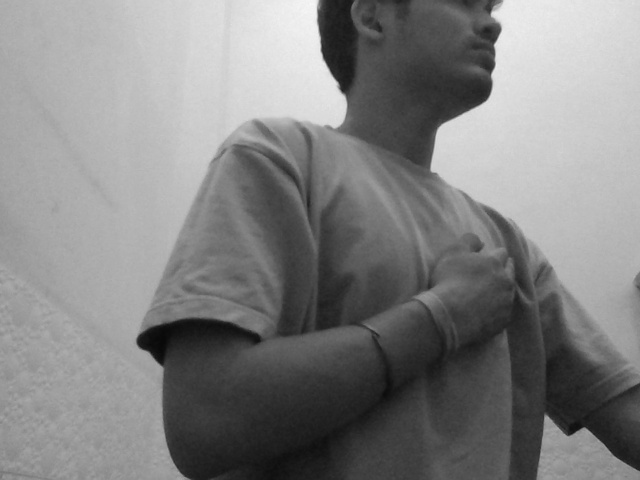Sorry: (405, 202, 567, 403)
